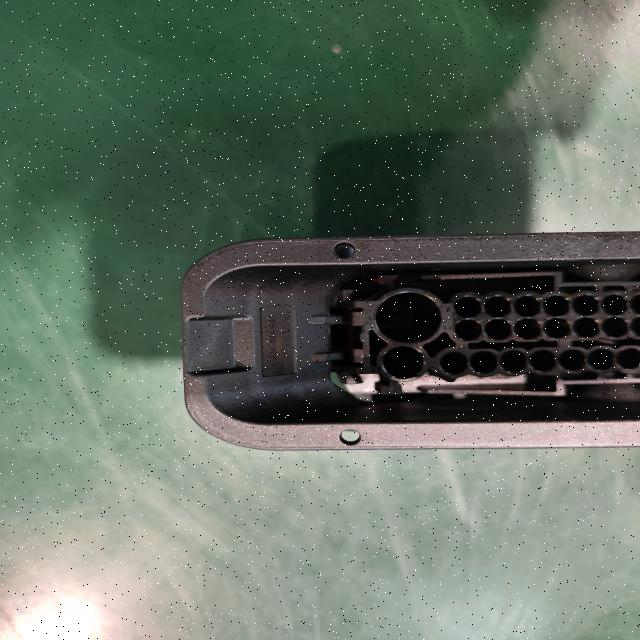P38: (182, 232, 640, 450)
